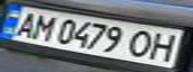0: (51, 16, 78, 46)
4: (69, 19, 90, 48)
7: (87, 20, 109, 52)
9: (103, 24, 130, 55)
A: (6, 9, 42, 38)
H: (145, 30, 184, 63)
M: (27, 12, 60, 43)
O: (124, 28, 163, 60)
